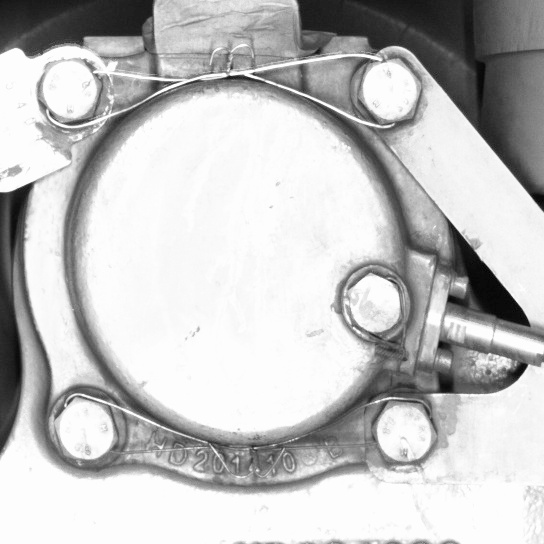IronWire: (44, 384, 445, 471), (26, 49, 430, 132)
Screw: (44, 384, 132, 467), (27, 50, 112, 135), (344, 47, 429, 132), (365, 386, 445, 473), (337, 262, 413, 346)
